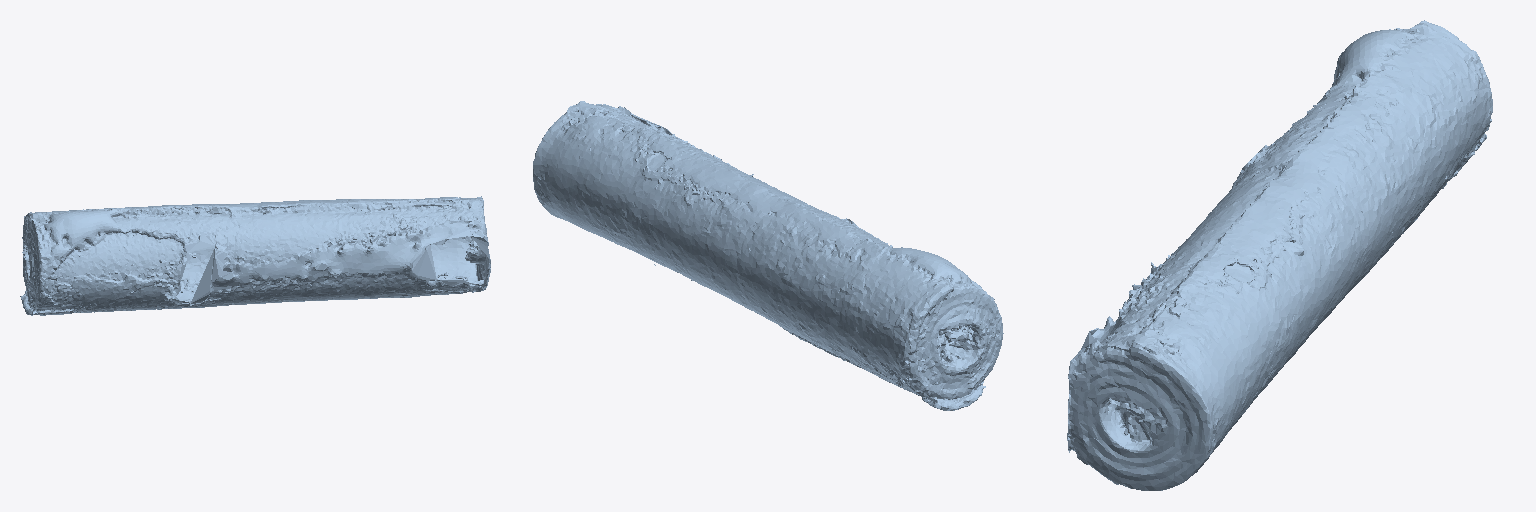
robot.urdf — yogamat.urdf:
<?xml version="1.0" ?>
<robot name="yogamat.urdf">
  <dynamics damping="0.5" friction="0.9"/>
  <link name="baseLink">
    <contact>
      <lateral_friction value="0.9"/>
      <rolling_friction value="0.5"/>
      <stiffness value="30000"/>
      <damping value="1000"/>
    </contact>
    <visual>
      <origin rpy="0 0 0" xyz="0 0 0"/>
      <geometry>
        <mesh filename="objects/yogamat/yogamat.obj" scale="1.0 1.0 1.0"/>
      </geometry>
       <material name="mat">
        <color rgba="0.7 0.8 0.9 1"/>
      </material>
    </visual>
    <collision>
      <origin rpy="0 0 0" xyz="0 0 0"/>
      <geometry>
         <mesh filename="objects/yogamat/yogamat.obj" scale="1.0 1.0 1.0"/>
      </geometry>
    </collision>
  </link>
</robot>

--- Render facts (derived) ---
3 views of the same robot in one strip: view 1: azimuth 30°, elevation 25°; view 2: azimuth 150°, elevation 25°; view 3: azimuth 270°, elevation 25° (orthographic).
Model yogamat.urdf with 1 links and 0 joints (none), rooted at baseLink, posed all joints at 0.
Links seen in each view (by area): view 1: baseLink; view 2: baseLink; view 3: baseLink.
Link boxes in pixels (x1,y1,x2,y2): baseLink: [20, 196, 490, 315]; baseLink: [533, 101, 1003, 410]; baseLink: [1067, 20, 1492, 490].
Bounding box of the posed robot: 0.9798 × 0.5344 × 0.2447 m (x, y, z).
Meshes: 1 distinct files referenced, 1 mesh visuals loaded (1 OBJ).
